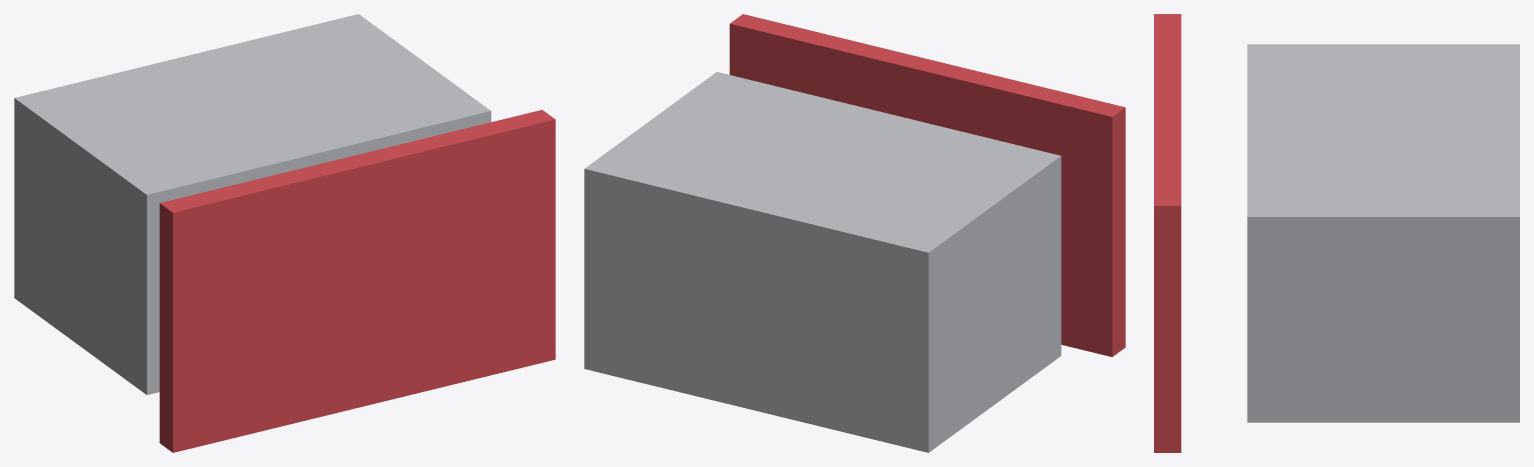
Rendered from city_vendor_kiosk.glb.
The picture shows the model from 3 angles, left to right: view 1: azimuth 30°, elevation 25°; view 2: azimuth 150°, elevation 25°; view 3: azimuth 270°, elevation 25°; orthographic projection. The views are drawn at different scales.
Parts seen in each view (by area): view 1: awning, base; view 2: base, awning; view 3: base, awning.
Part boxes in pixels (<box>): awning: <box>159,110,555,452</box>; base: <box>14,14,491,394</box>; base: <box>584,72,1061,452</box>; awning: <box>729,14,1125,356</box>; base: <box>1247,44,1519,422</box>; awning: <box>1154,14,1181,452</box>.
Size of the model in its own units: 2 by 1.2 by 1.61.
